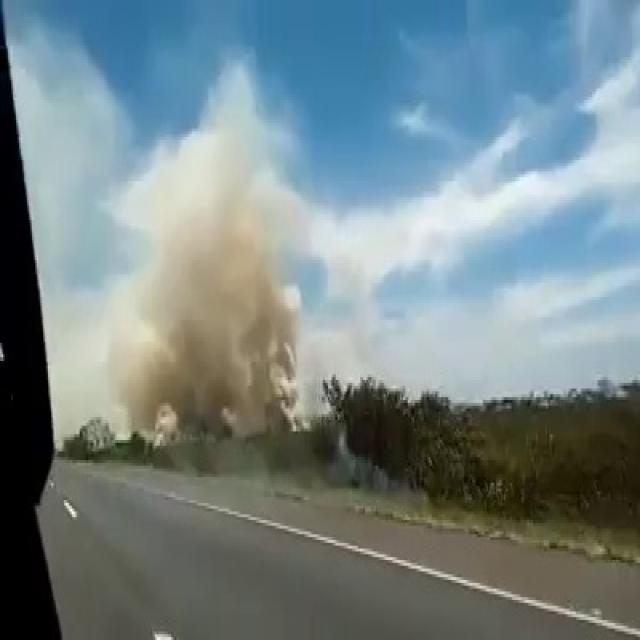Smoke: (94, 90, 304, 437)
